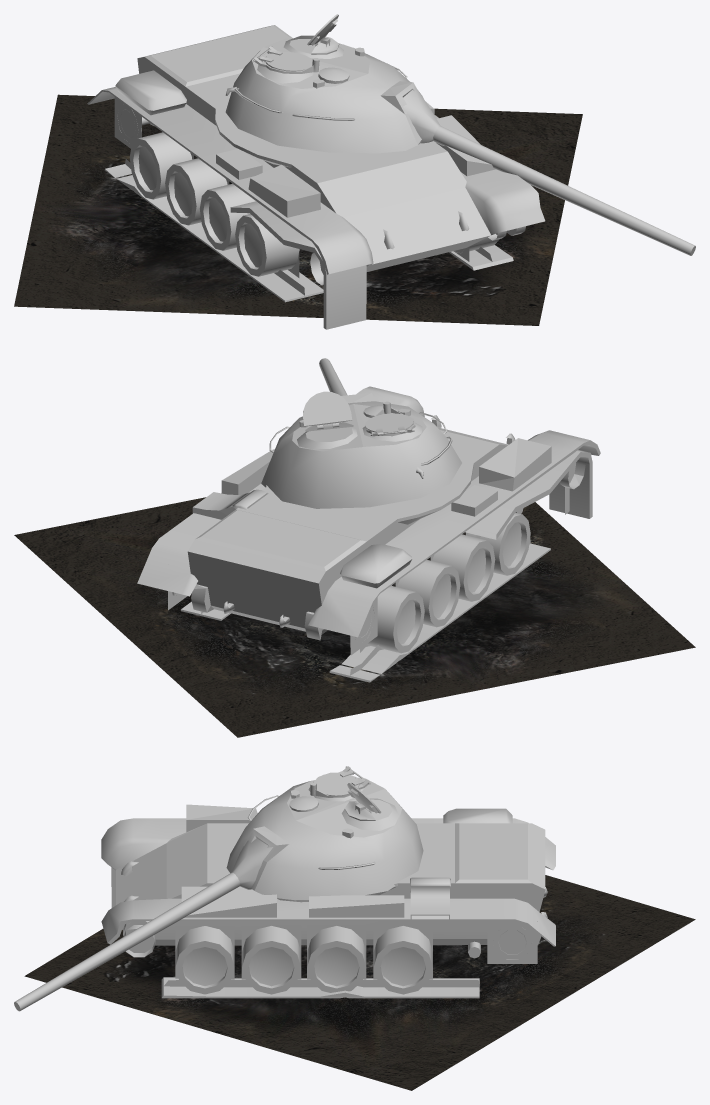
Rendered from T_54_Dead.FBX.
The picture shows the model from 3 angles, top to bottom: view 1: azimuth 30°, elevation 25°; view 2: azimuth 150°, elevation 25°; view 3: azimuth 270°, elevation 25°; orthographic projection. The views are drawn at different scales.
Parts seen in each view (by area): view 1: T_54, Plane01; view 2: T_54, Plane01; view 3: T_54, Plane01.
Part boxes in pixels (left/top/right/bottom): T_54: left=87, top=14, right=695, bottom=329; Plane01: left=14, top=94, right=582, bottom=325; T_54: left=137, top=358, right=600, bottom=682; Plane01: left=14, top=497, right=695, bottom=737; T_54: left=14, top=766, right=555, bottom=1011; Plane01: left=24, top=875, right=695, bottom=1090.
Size of the model in its own units: 357 by 105 by 360.
